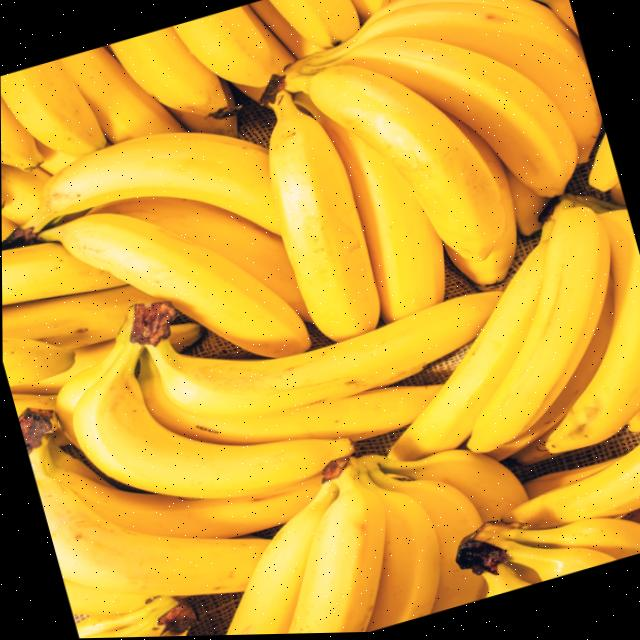Banana: (54, 301, 352, 499), (148, 292, 502, 416), (283, 65, 505, 262), (328, 37, 578, 198), (37, 212, 309, 358), (331, 2, 600, 149), (27, 438, 269, 596), (467, 201, 610, 453), (386, 241, 547, 462), (268, 90, 380, 342), (21, 132, 279, 234), (545, 211, 640, 454), (224, 481, 338, 636), (286, 464, 385, 635), (357, 466, 439, 634), (500, 445, 640, 531), (110, 25, 232, 115), (173, 4, 295, 87), (0, 58, 105, 154), (1, 241, 127, 304)
